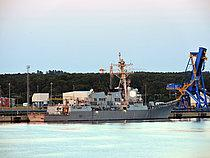MIL_Ship: (26, 82, 177, 122)
